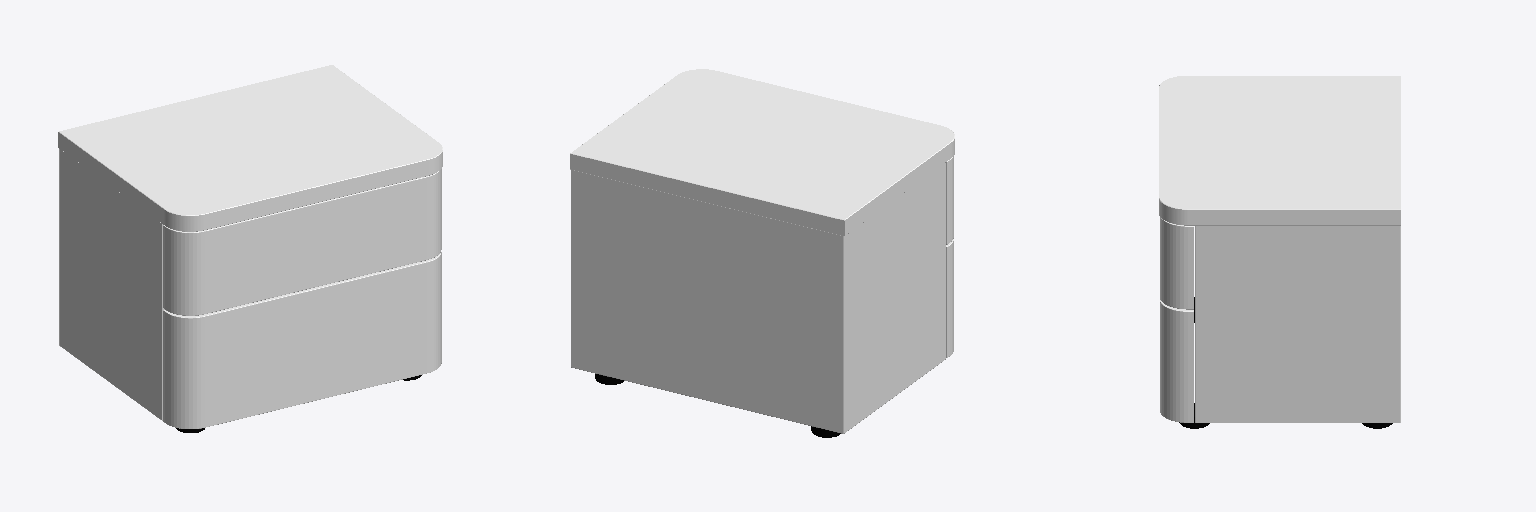
The model's file is block-table-wood.obj.
3 views of the same model, side by side, from view 1: azimuth 30°, elevation 25°; view 2: azimuth 150°, elevation 25°; view 3: azimuth 270°, elevation 25° (orthographic).
Parts seen in each view (by area): view 1: Rectangle0, Rectangle1, Box092; view 2: Box092, Rectangle1, Rectangle0; view 3: Box092, Rectangle1, Rectangle0.
Part boxes in pixels (x1,y1,x2,y2): Rectangle0: (163, 169, 441, 428); Rectangle1: (58, 65, 442, 231); Box092: (59, 149, 164, 420); Box092: (571, 163, 945, 433); Rectangle1: (570, 69, 954, 235); Rectangle0: (946, 156, 953, 357); Box092: (1195, 226, 1400, 422); Rectangle1: (1159, 76, 1400, 225); Rectangle0: (1160, 217, 1193, 422).
Size of the model in its own units: 0.5525 by 0.4373 by 0.4231.